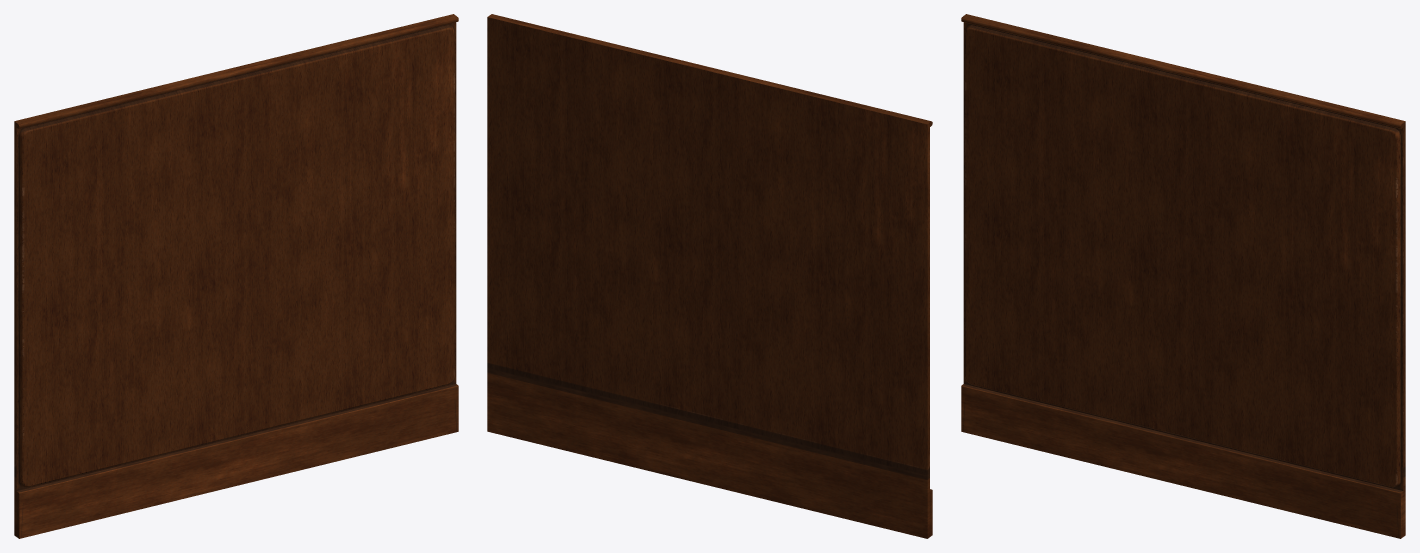
File: M_RoomPanel.FBX
3 renders of one model, left to right at view 1: azimuth 30°, elevation 25°; view 2: azimuth 150°, elevation 25°; view 3: azimuth 330°, elevation 25°, orthographic.
Parts seen in each view (by area): view 1: Panel_Wide; view 2: Panel_Wide; view 3: Panel_Wide.
Boxes of the visible parts, left/top/right/bottom form: Panel_Wide: left=14, top=14, right=458, bottom=538; Panel_Wide: left=487, top=14, right=932, bottom=538; Panel_Wide: left=961, top=14, right=1405, bottom=538.
Size of the model in its own units: 100 by 90 by 2.
